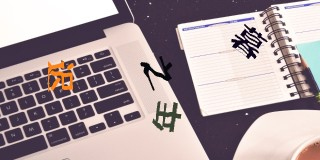之: (140, 56, 174, 90)
年: (152, 101, 182, 132)
暮: (231, 23, 268, 60)
迟: (46, 60, 75, 91)
